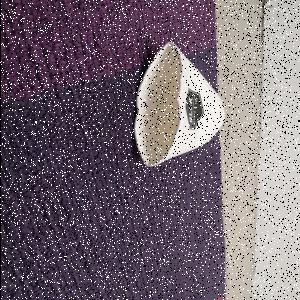Cup: (133, 42, 226, 168)
